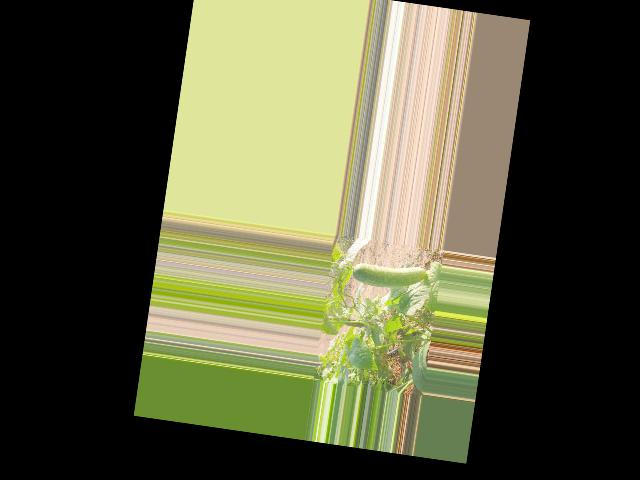cucumber: (352, 257, 427, 293)
